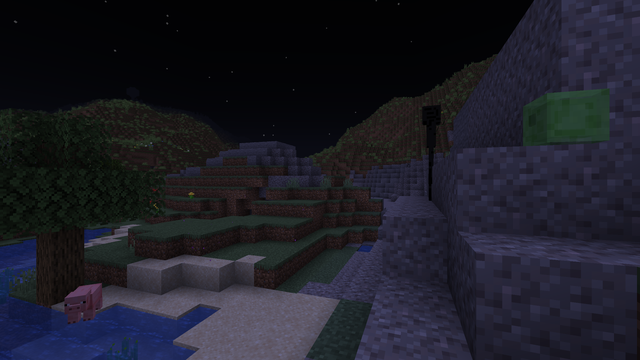cochons: (60, 282, 108, 324)
endermens: (420, 101, 442, 201)
slimes: (522, 85, 610, 147)
